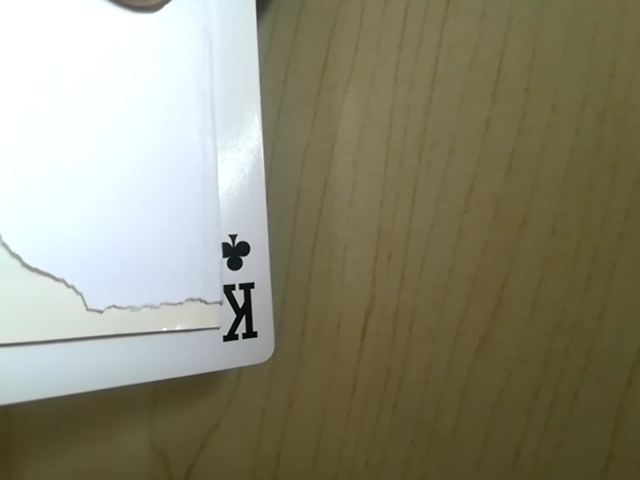mh k: (194, 222, 287, 369)
